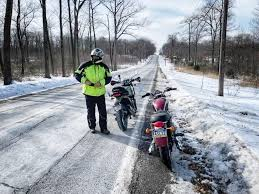motorcycle: (138, 85, 179, 168), (108, 74, 145, 136)
